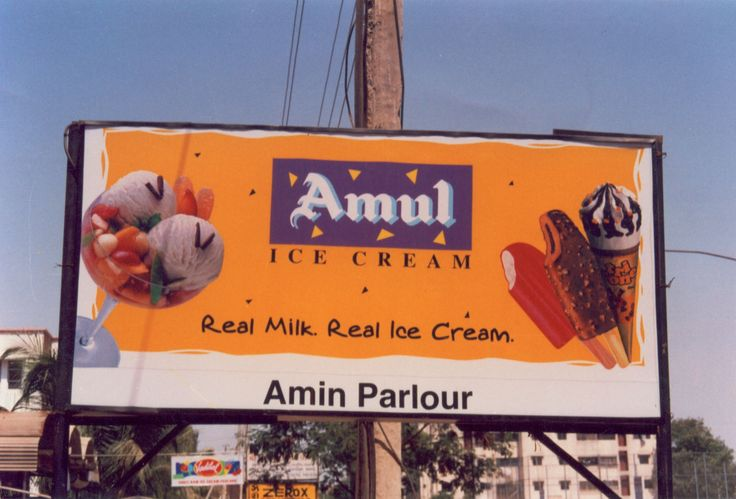Amul: (283, 166, 464, 236)
